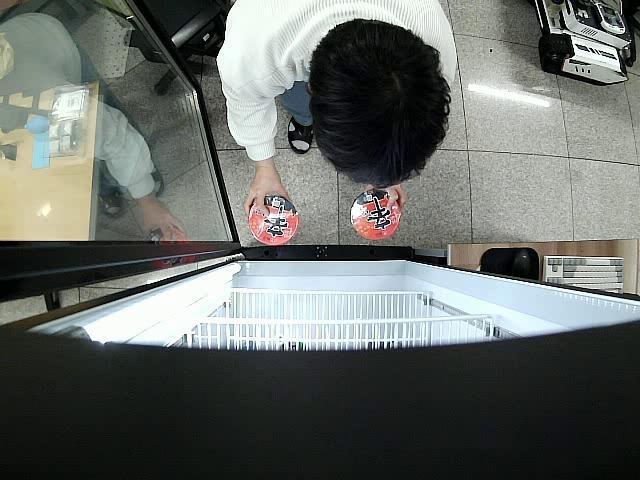01_ShinRamen_L: (350, 190, 402, 242), (249, 196, 297, 246)
